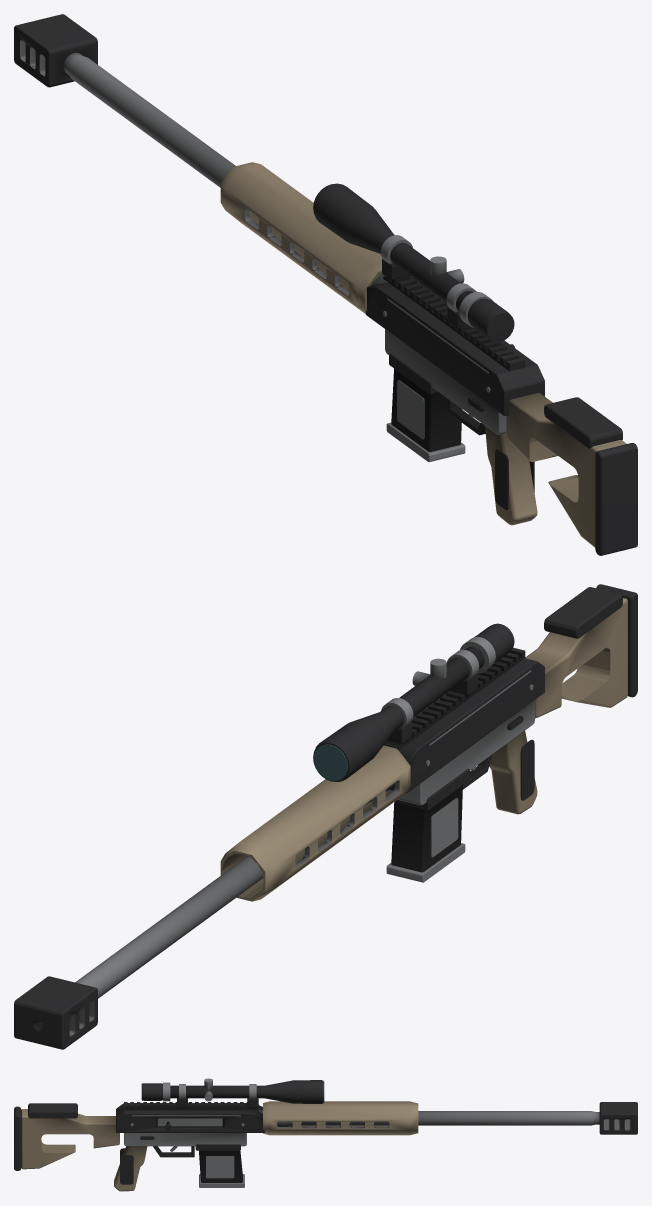
File: ironwood_50.glb
3 renders of one model, top to bottom at view 1: azimuth 30°, elevation 25°; view 2: azimuth 150°, elevation 25°; view 3: azimuth 270°, elevation 25°, orthographic. The views are drawn at different scales.
Visible parts, largest first — view 1: Receiver, Stock, Optic, Barrel, Magazine, MuzzleBrake; view 2: Receiver, Stock, Optic, Barrel, Magazine, MuzzleBrake, OpticGlass; view 3: Receiver, Stock, Optic, Barrel, Magazine, MuzzleBrake, Bolt.
Boxes of the visible parts, box(x1,y1,x2,y2) form: Receiver: box(220, 162, 544, 525); Stock: box(506, 393, 637, 555); Optic: box(313, 183, 514, 341); Barrel: box(63, 52, 387, 285); Magazine: box(386, 368, 465, 461); MuzzleBrake: box(14, 14, 97, 87); Receiver: box(220, 647, 544, 901); Stock: box(525, 584, 637, 717); Optic: box(313, 623, 514, 781); Barrel: box(75, 783, 395, 998); Magazine: box(386, 785, 465, 882); MuzzleBrake: box(14, 976, 97, 1049); OpticGlass: box(314, 744, 347, 780); Receiver: box(114, 1101, 418, 1191); Stock: box(14, 1103, 119, 1170); Optic: box(141, 1078, 323, 1107); Barrel: box(259, 1109, 599, 1126); Magazine: box(199, 1150, 244, 1187); MuzzleBrake: box(599, 1102, 637, 1134); Bolt: box(157, 1118, 222, 1126).
Bounding box in the file's own units: 0.0958 × 0.2977 × 1.55.
